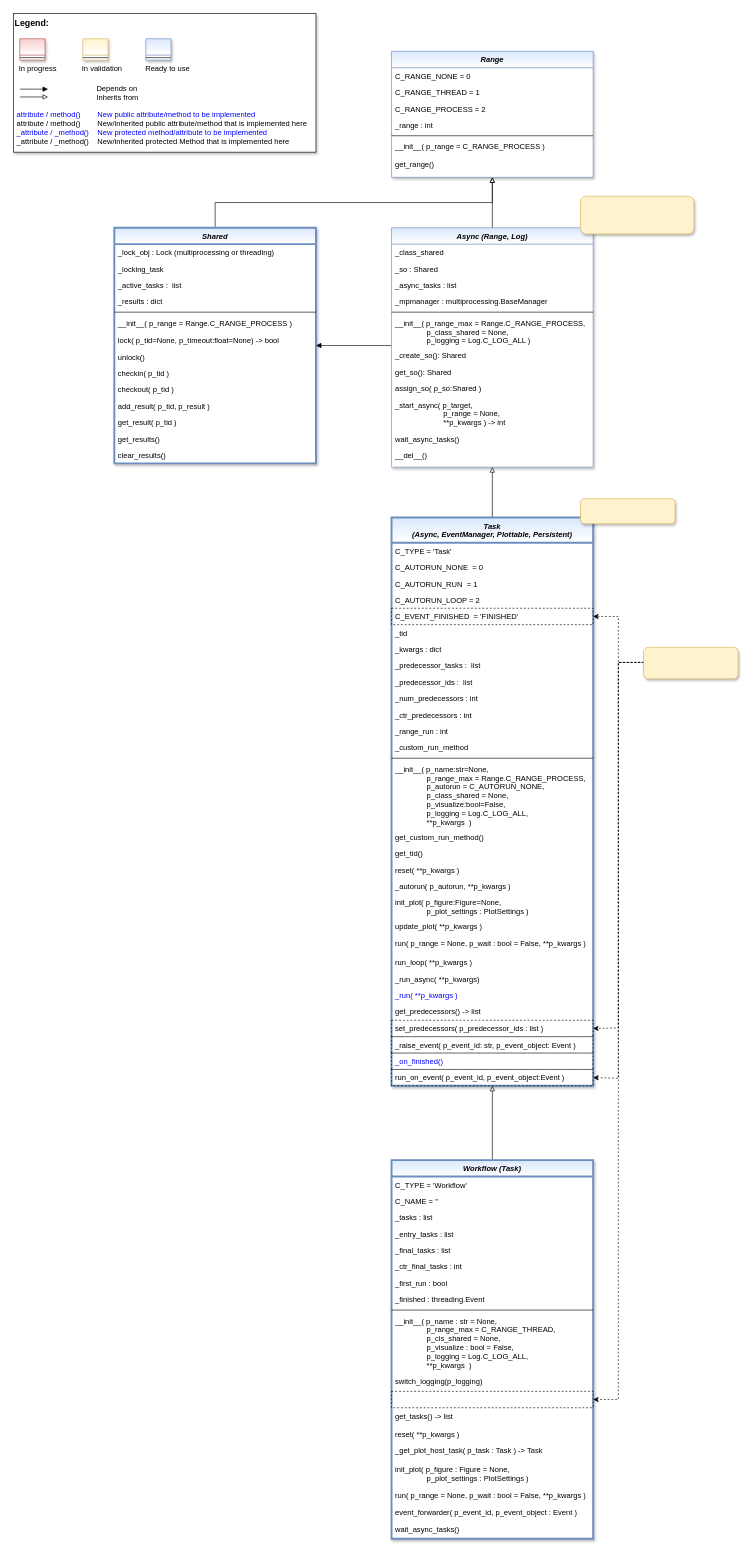
Some shapes in this 753 by 1555 pixel diagram are drawn without their labels. Here are the shapes that lost their labels. From the top down, the centre of each, then its label:
At (x=637, y=215): "Property class, that enables a child class to start asynchronous sub-functions".
At (x=628, y=511): "Template class for own (asynchronous) Tasks".
At (x=691, y=663): "Enables the creation of event oriented task hierarchies.".
At (x=492, y=1399): "add_task( p_task : Task, p_pred_tasks : list = None )".
